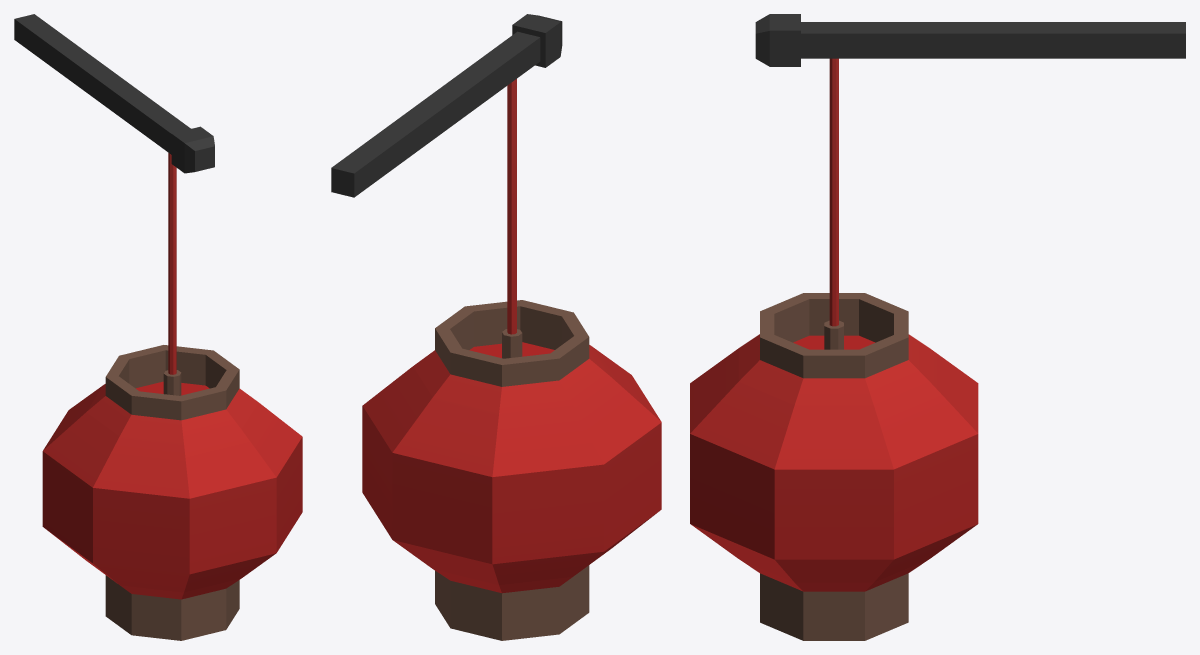
File: SM_Buildings_Part_41.fbx
The picture shows the model from 3 angles, left to right: view 1: azimuth 30°, elevation 25°; view 2: azimuth 150°, elevation 25°; view 3: azimuth 270°, elevation 25°; orthographic projection. The views are drawn at different scales.
Visible parts, largest first — view 1: SM_Buildings_Part_41; view 2: SM_Buildings_Part_41; view 3: SM_Buildings_Part_41.
Part boxes in pixels (x1,y1,x2,y2): SM_Buildings_Part_41: (14,14,302,640); SM_Buildings_Part_41: (331,14,661,640); SM_Buildings_Part_41: (690,14,1185,640).
Bounding box in the file's own units: 27.09 × 60.83 × 46.58.
